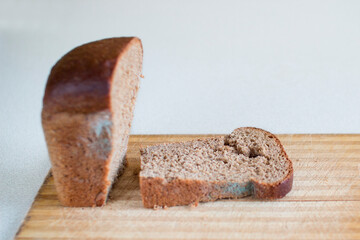mold_bread: (87, 114, 116, 164), (210, 178, 257, 200)
